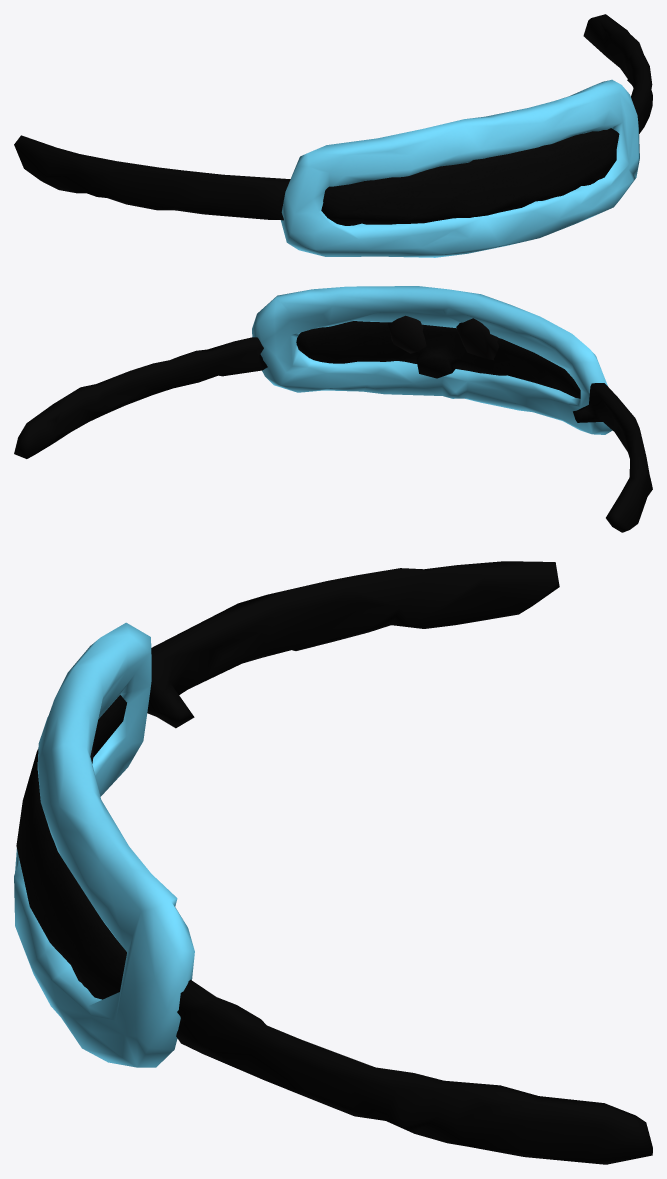
3 views of the same model, one above another, from view 1: azimuth 30°, elevation 25°; view 2: azimuth 150°, elevation 25°; view 3: azimuth 270°, elevation 25° (orthographic). The views are drawn at different scales.
Visible parts, largest first — view 1: eyes_vr.001; view 2: eyes_vr.001; view 3: eyes_vr.001.
Part boxes in pixels (x1=…): eyes_vr.001: x1=14, y1=14, x2=652, y2=257; eyes_vr.001: x1=14, y1=286, x2=652, y2=532; eyes_vr.001: x1=14, y1=561, x2=652, y2=1164.
Bounding box in the file's own units: 0.3374 × 0.0676 × 0.1847.
3 materials, 3 textured.
